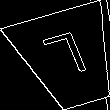L_S: (41, 30, 96, 88)
